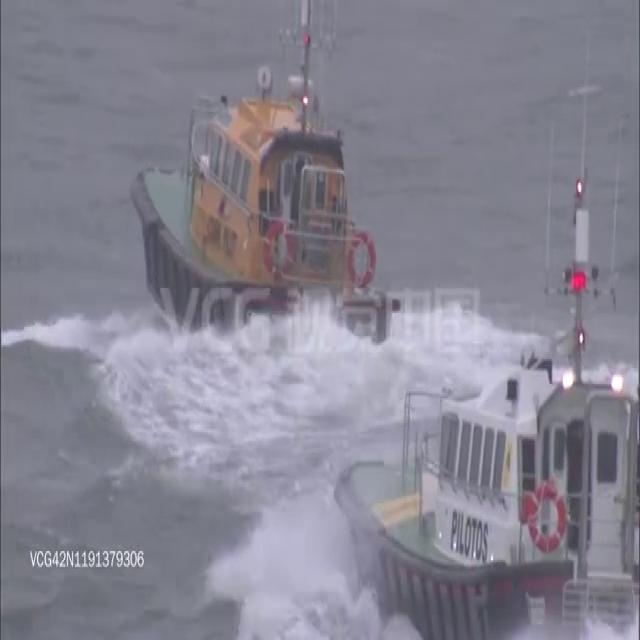houseboat: (324, 158, 640, 640), (128, 0, 390, 352)
